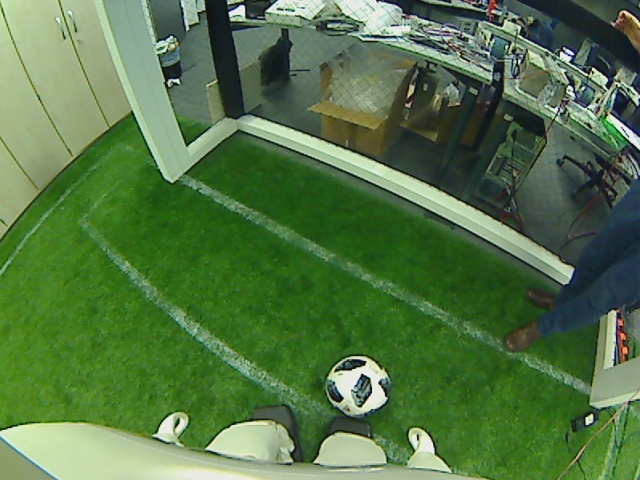ball: (321, 353, 392, 418)
